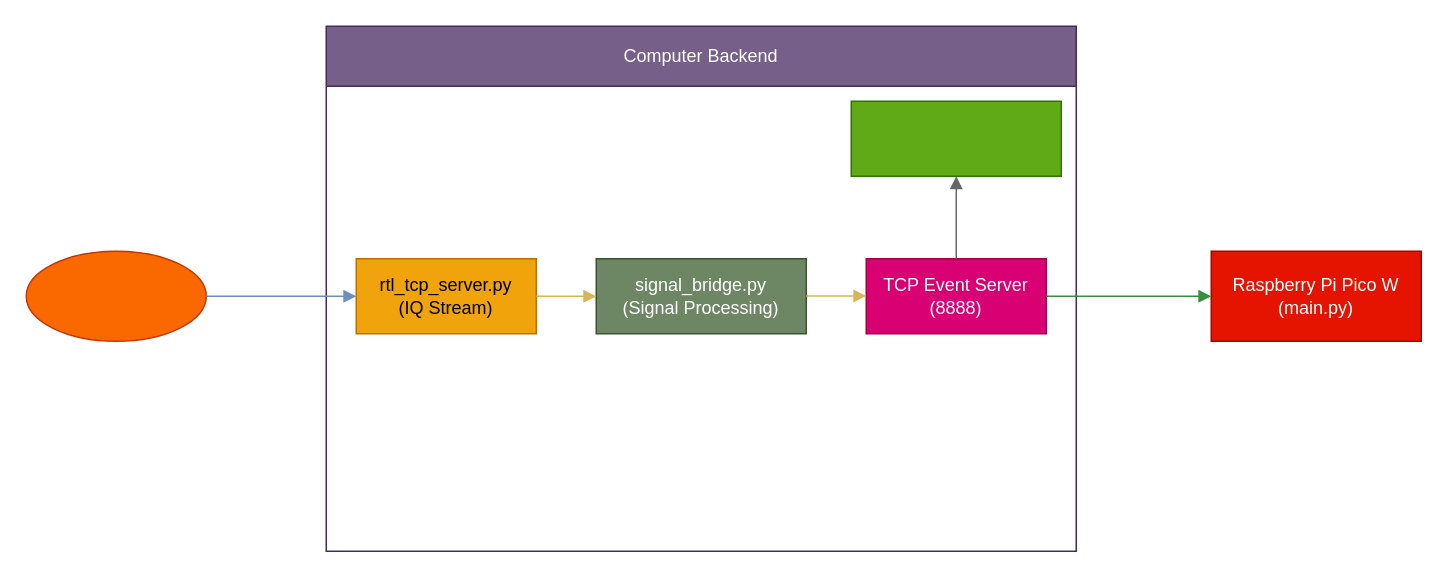
The diagram is 1448 pixels wide and 578 high, and some of its shapes have lost their labels. Each missing label, with the centre of its shape:
cli_dashboard.py (Rich UI): the point at 955,138
RTL-SDR V4 Dongle: the point at 115,295
